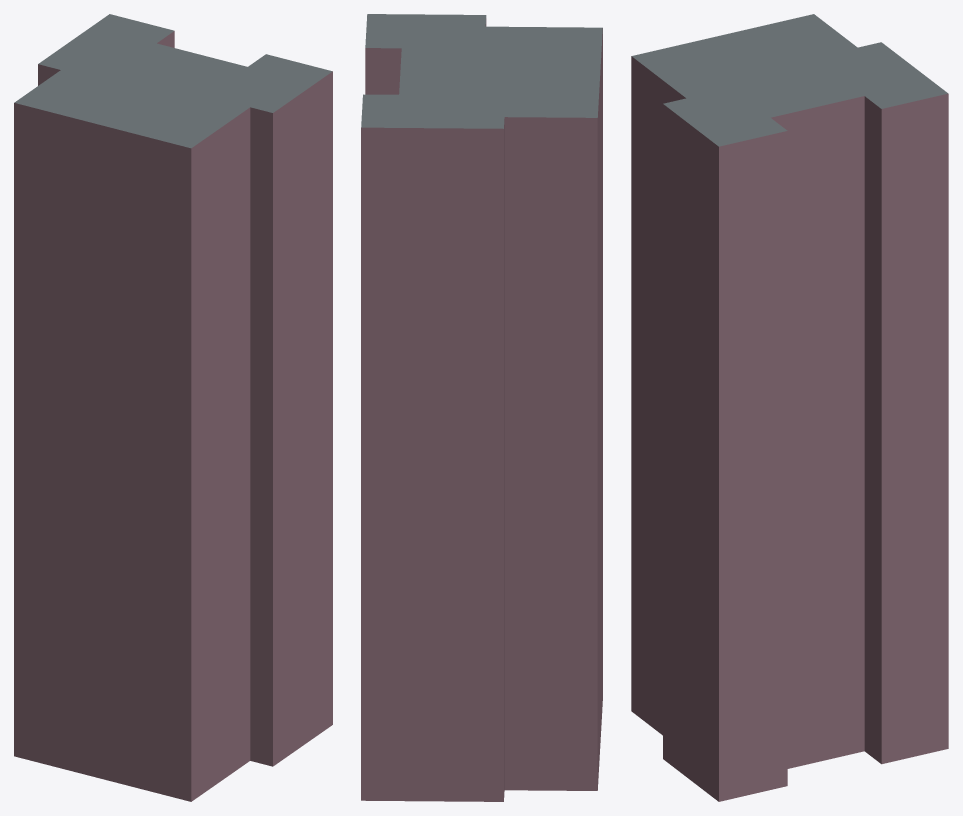
The model's file is nyc-1080824-0.glb.
3 views of the same model, side by side, from view 1: azimuth 30°, elevation 25°; view 2: azimuth 150°, elevation 25°; view 3: azimuth 270°, elevation 25° (orthographic). The views are drawn at different scales.
Visible parts, largest first — view 1: nyc-1080824-0; view 2: nyc-1080824-0; view 3: nyc-1080824-0.
Boxes of the visible parts, x1=… form: nyc-1080824-0: x1=14, y1=14, x2=332, y2=801; nyc-1080824-0: x1=361, y1=14, x2=602, y2=801; nyc-1080824-0: x1=631, y1=14, x2=948, y2=801.
Size of the model in its own units: 72.61 by 167 by 73.3.
